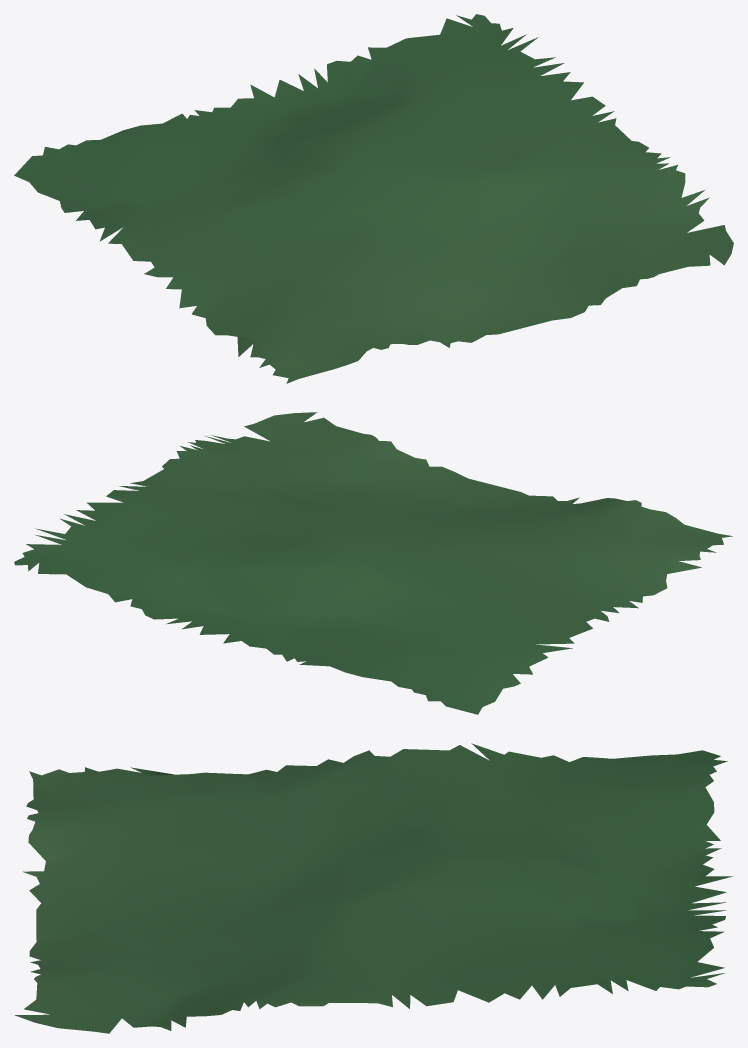
The model's file is payo_land_x0_y8_lod2.glb.
3 views of the same model, one above another, from view 1: azimuth 30°, elevation 25°; view 2: azimuth 150°, elevation 25°; view 3: azimuth 270°, elevation 25° (orthographic). The views are drawn at different scales.
Parts seen in each view (by area): view 1: payo_land_x0_y8; view 2: payo_land_x0_y8; view 3: payo_land_x0_y8.
Part boxes in pixels (x1=…): payo_land_x0_y8: x1=14, y1=14, x2=733, y2=383; payo_land_x0_y8: x1=14, y1=412, x2=732, y2=714; payo_land_x0_y8: x1=15, y1=743, x2=732, y2=1033.
Size of the model in its own units: 272 by 33.82 by 271.
